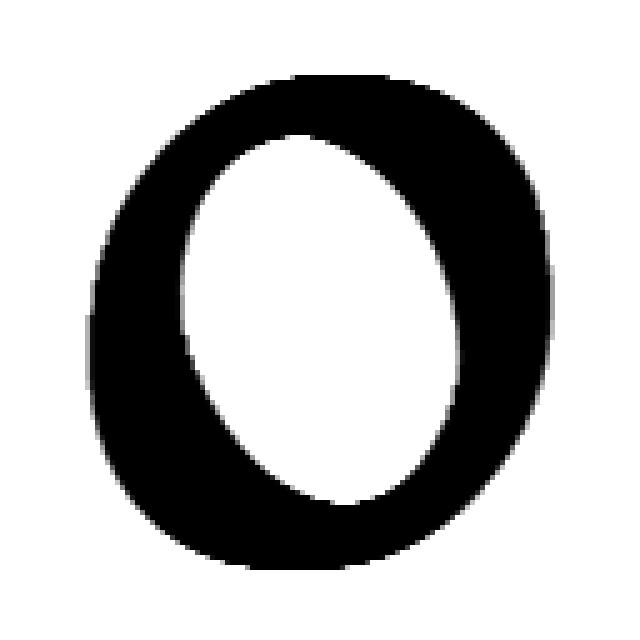O: (85, 75, 560, 575)
